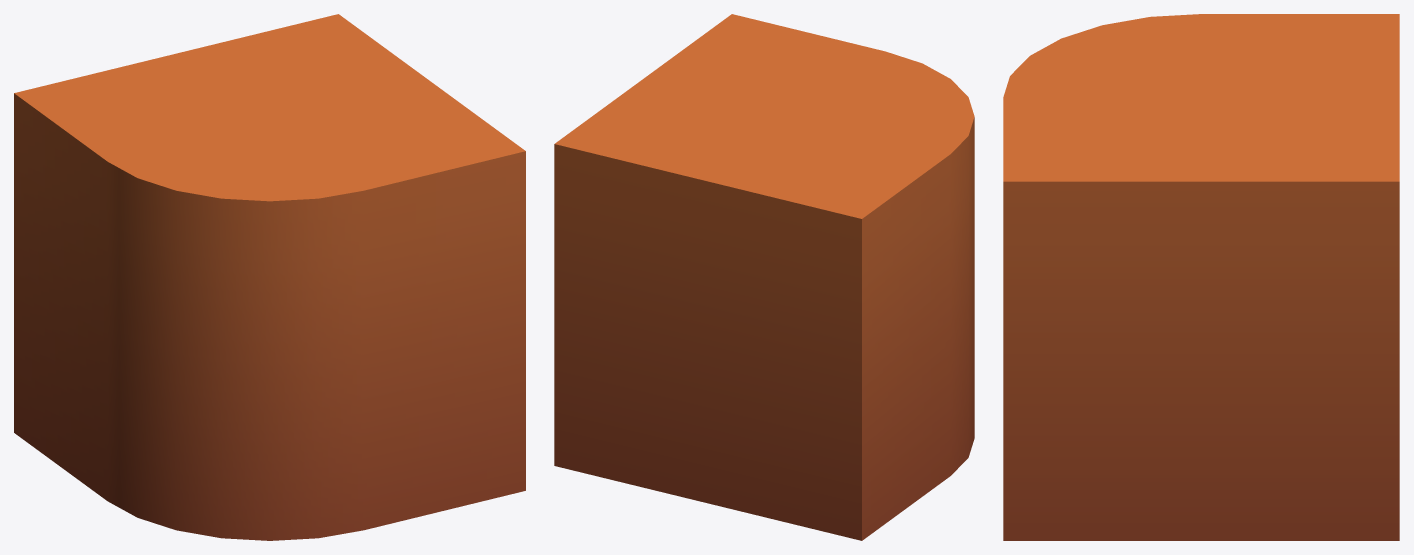
File: kaykit_terrain_tall_curved_v01.glb
3 renders of one model, left to right at view 1: azimuth 30°, elevation 25°; view 2: azimuth 150°, elevation 25°; view 3: azimuth 270°, elevation 25°, orthographic. The views are drawn at different scales.
Parts seen in each view (by area): view 1: terrain_tall_curved; view 2: terrain_tall_curved; view 3: terrain_tall_curved.
Part boxes in pixels (bbox=[...]): terrain_tall_curved: bbox=[14, 14, 525, 540]; terrain_tall_curved: bbox=[554, 14, 974, 540]; terrain_tall_curved: bbox=[1003, 14, 1399, 540].
Size of the model in its own units: 2 by 2 by 2.
1 material, 1 textured.
